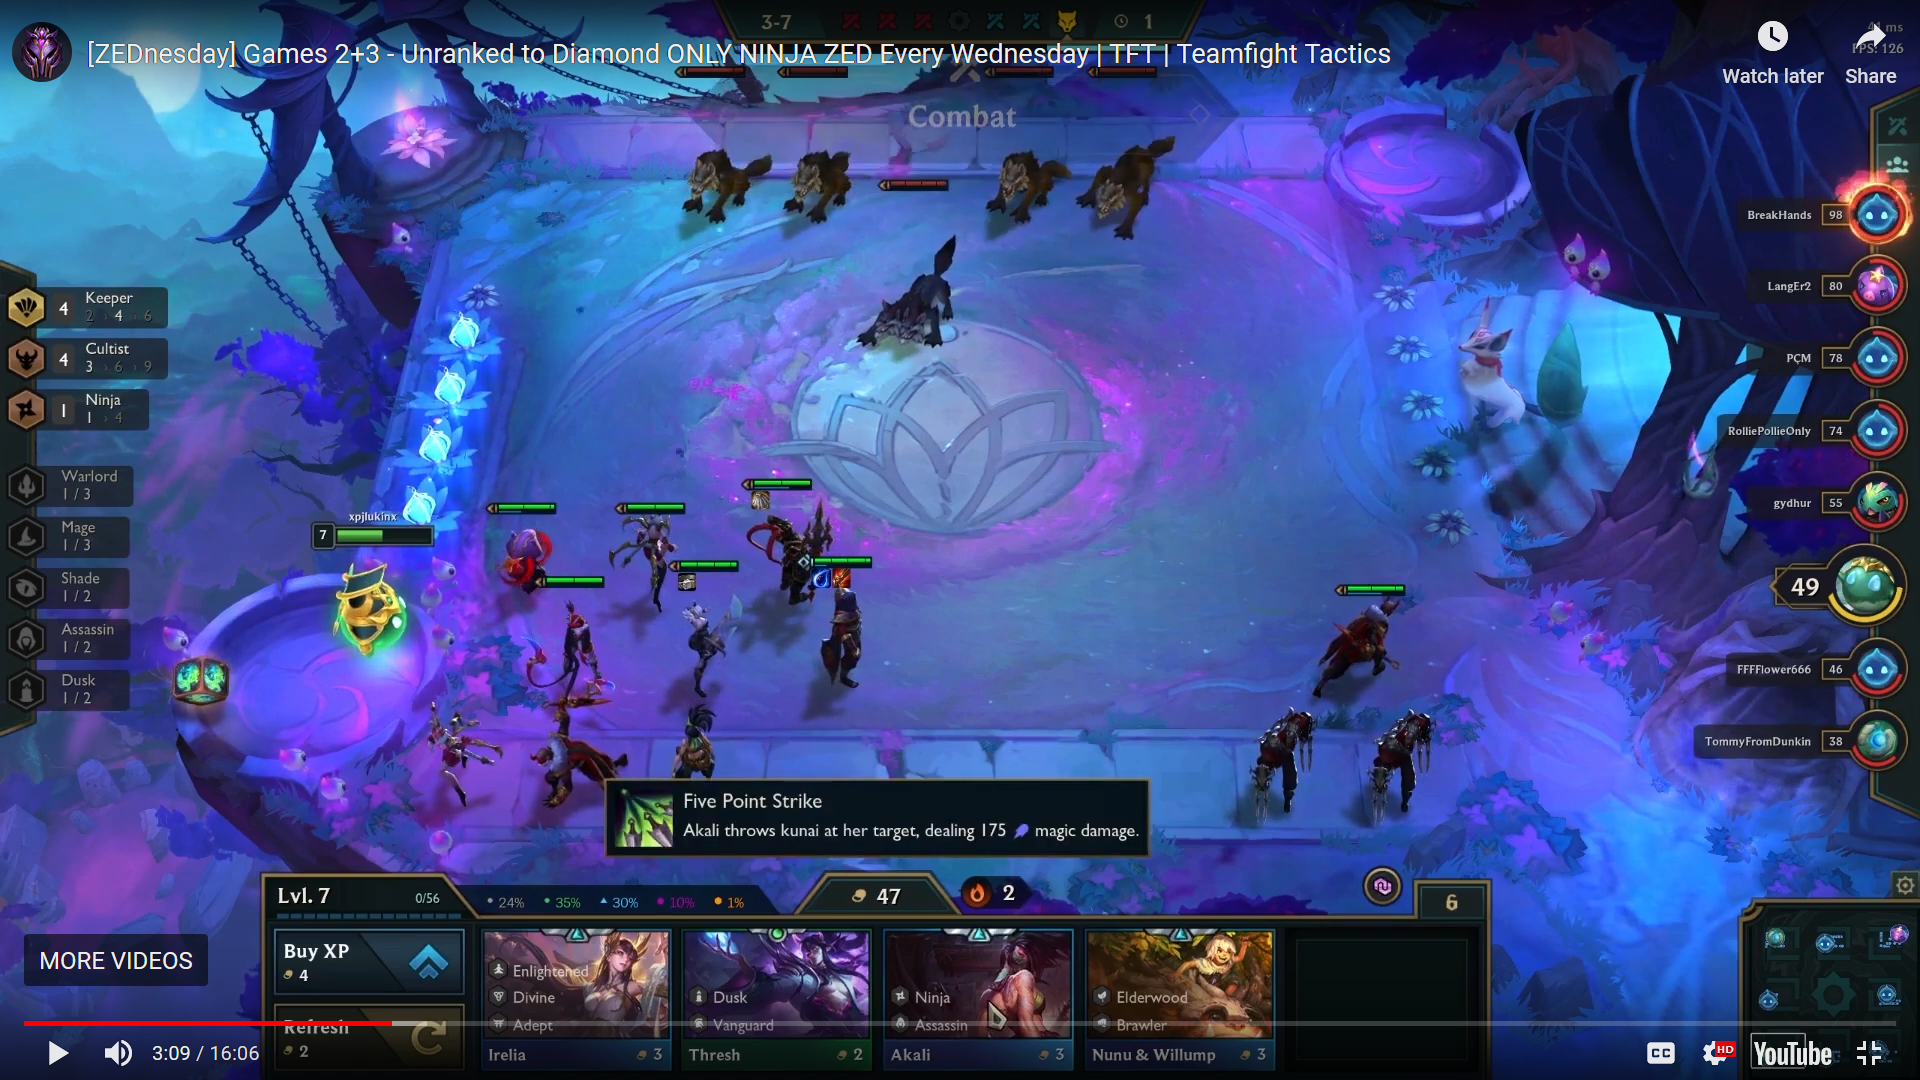1star_elise: (593, 492, 698, 626)
1star_evelynn: (514, 563, 630, 716)
1star_jarvaniv: (729, 460, 843, 628)
1star_kennen: (468, 489, 566, 608)
1star_pyke: (1296, 564, 1416, 713)
1star_riven: (651, 545, 754, 716)
2star_twistedfate: (781, 547, 890, 712)
item_belt: (676, 568, 699, 593)
item_negatron: (749, 488, 771, 512)
item_rfc: (829, 564, 853, 588)
item_tear: (811, 564, 833, 589)
trait_assassin1: (1, 611, 175, 663)
trait_cultist4: (1, 332, 175, 385)
trait_dusk1: (1, 658, 175, 711)
trait_keeper4: (1, 280, 175, 334)
trait_mage1: (1, 506, 175, 559)
trait_ninja1: (1, 380, 175, 433)
trait_shade1: (1, 560, 175, 613)
trait_warlord1: (1, 460, 175, 513)
